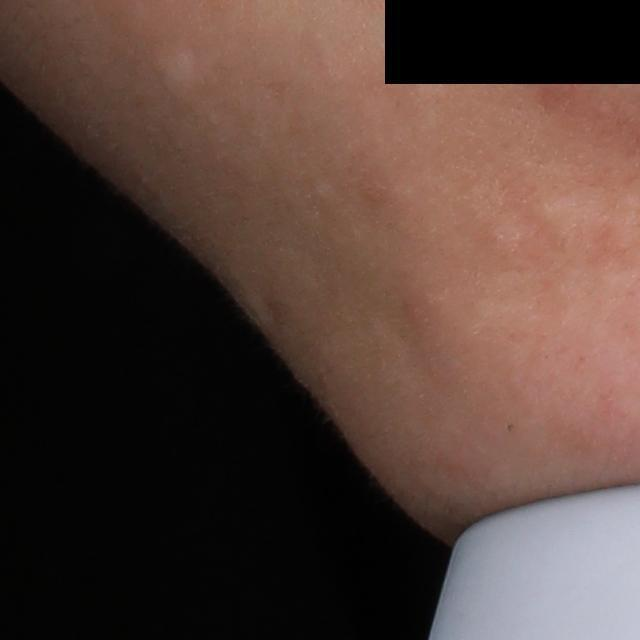hypertrophic_scar: (150, 45, 205, 102)
